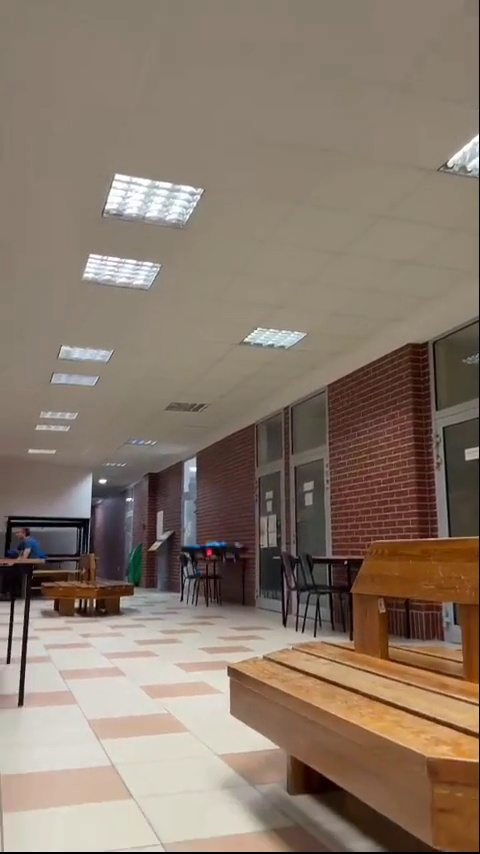drone: (180, 542, 245, 566)
no vest: (6, 523, 53, 592)
